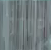Stop: (2, 4, 50, 47)
